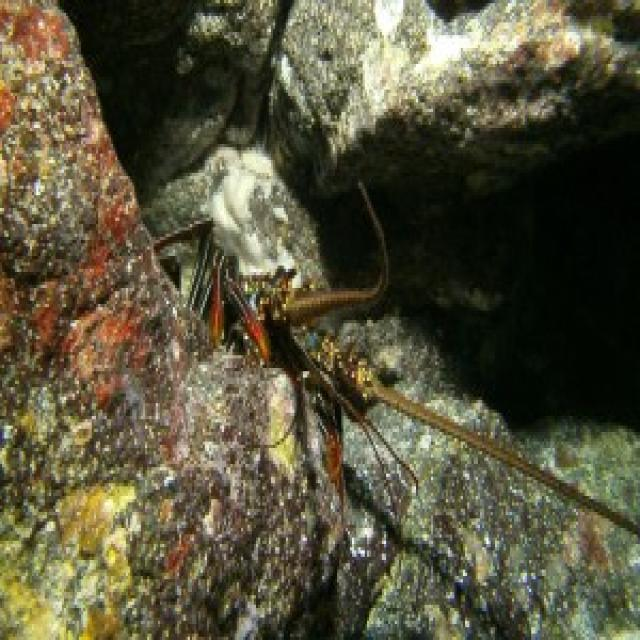lobsters: (108, 218, 524, 554)
